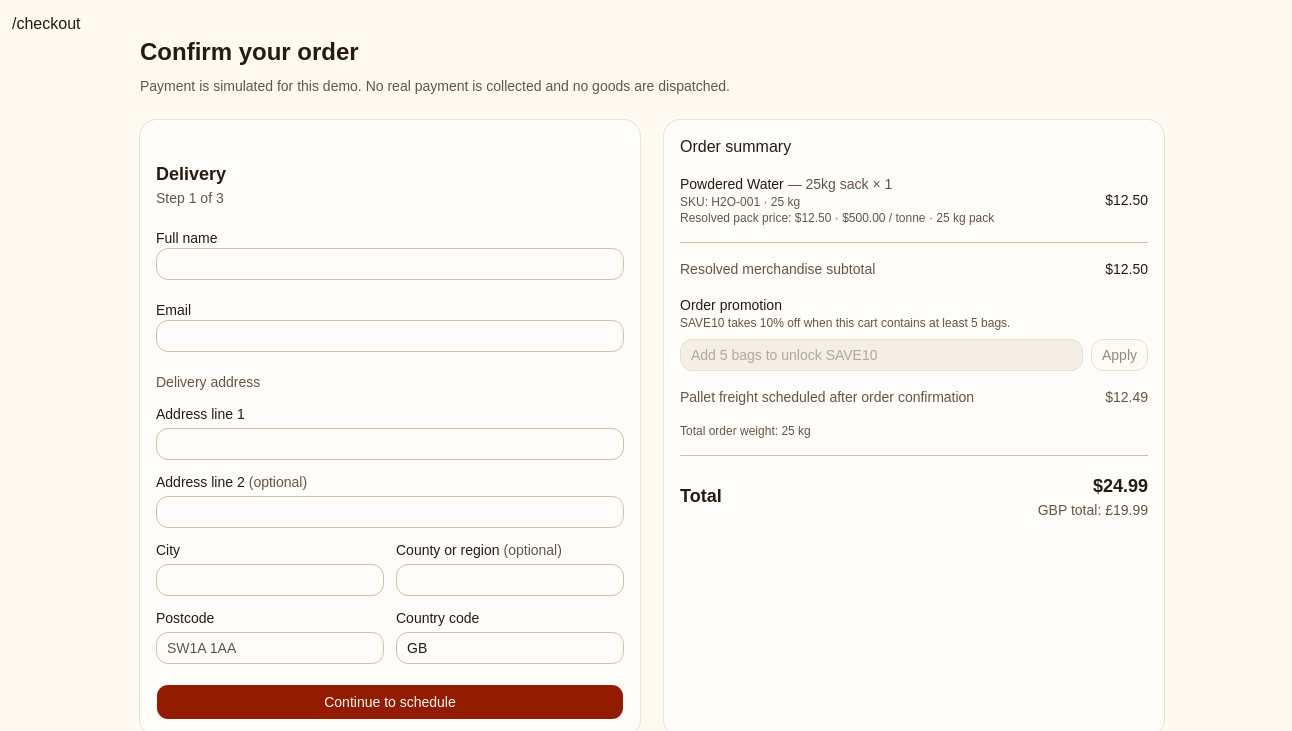
it: Checkout delivery and navigation › shows the lead-time reason and recovers from a slot load failure through retry
Type "Checkout Test" into the field labelled "Full name".
click(390, 264); type("Checkout Test")  # box 156,248 -> 624,280
Type "checkout@example.test" into the field labelled "Email".
click(390, 336); type("checkout@example.test")  # box 156,320 -> 624,352
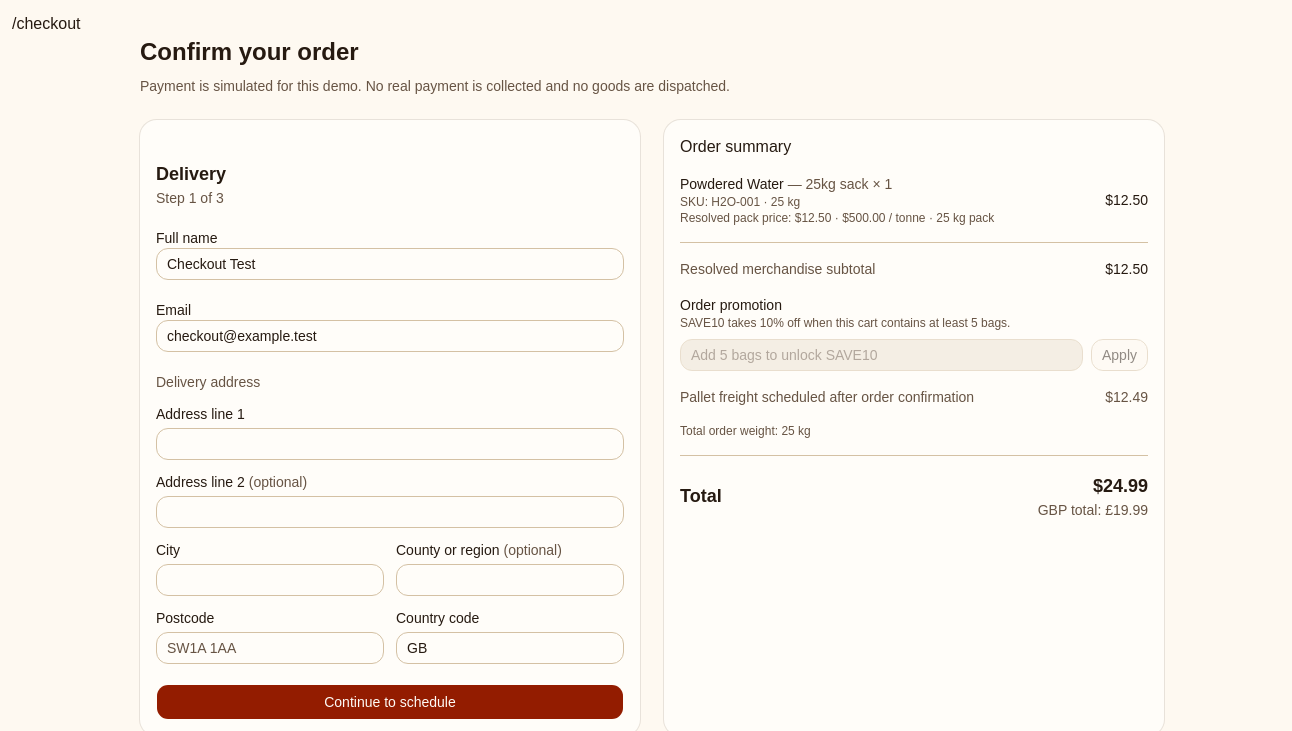
Type "1 Test Street" into the field labelled "Address line 1".
click(390, 444); type("1 Test Street")  # box 156,428 -> 624,460
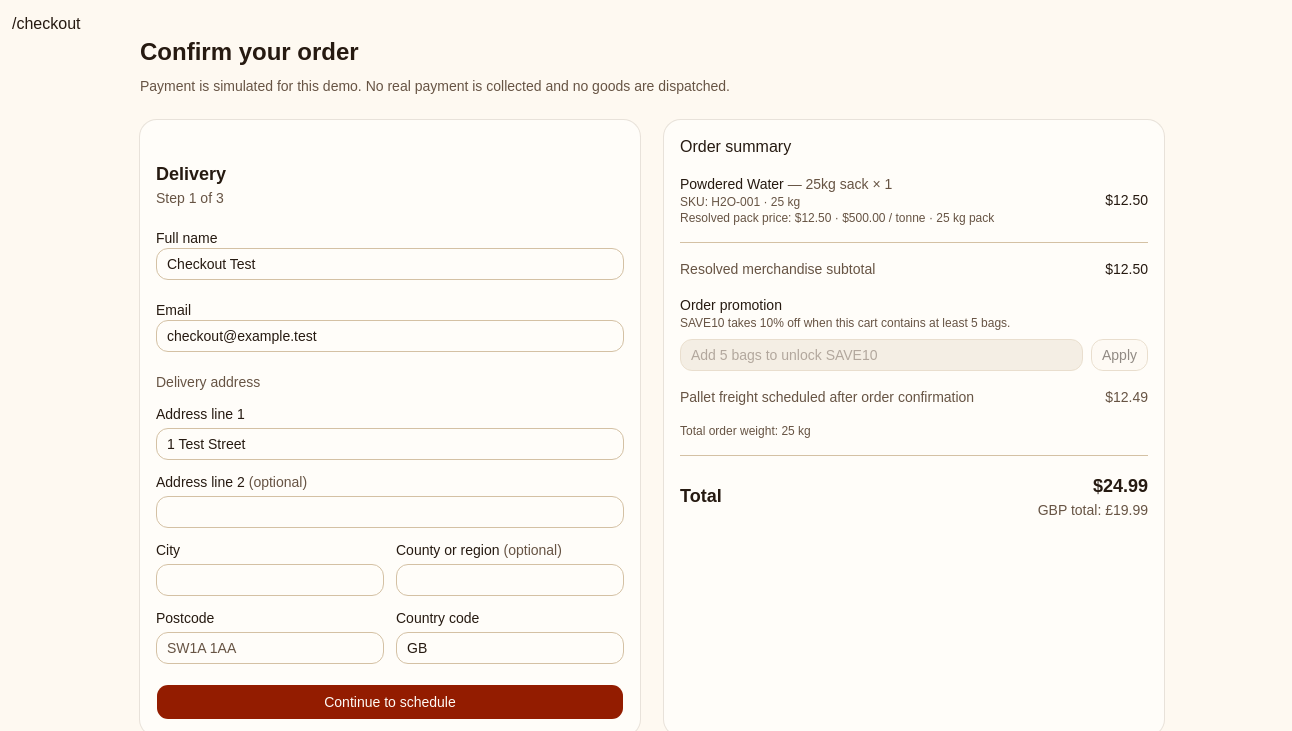
Type "Testville" into the field labelled "City".
click(270, 580); type("Testville")  # box 156,564 -> 384,596
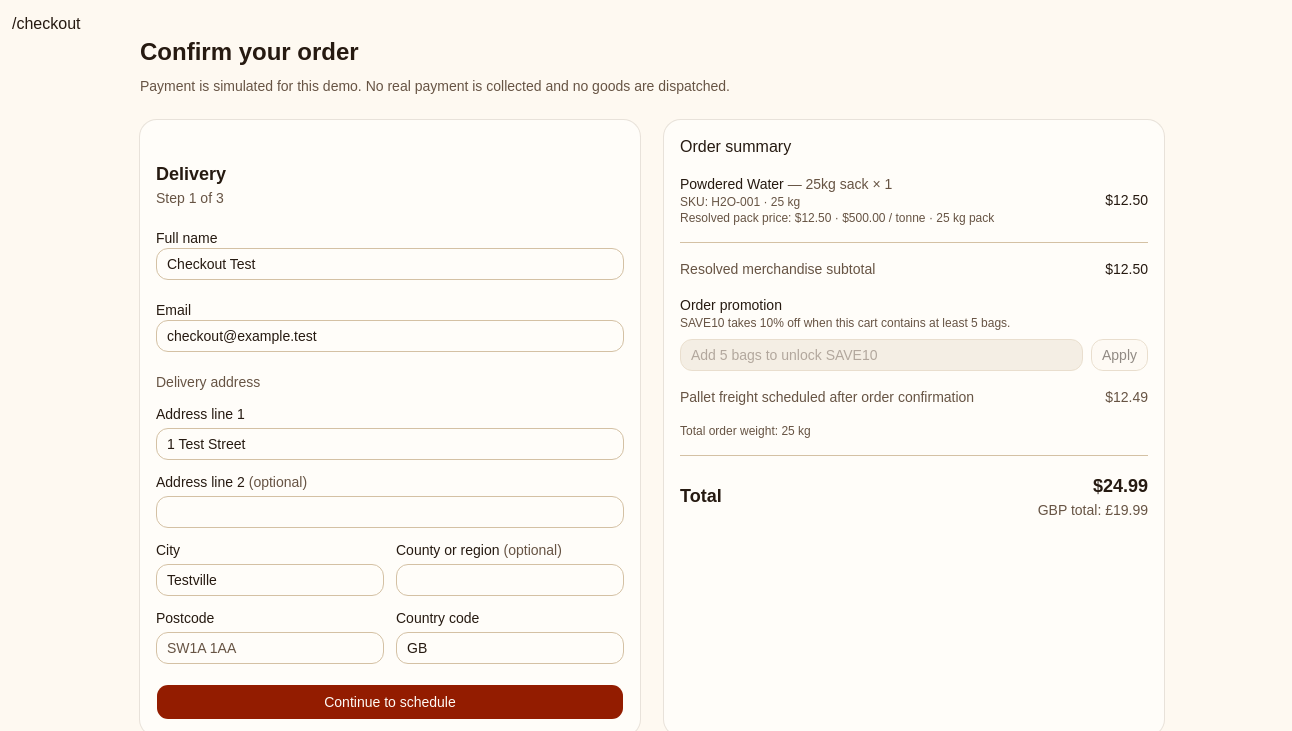
Type "TE1 1ST" into the field labelled "Postcode".
click(270, 648); type("TE1 1ST")  # box 156,632 -> 384,664
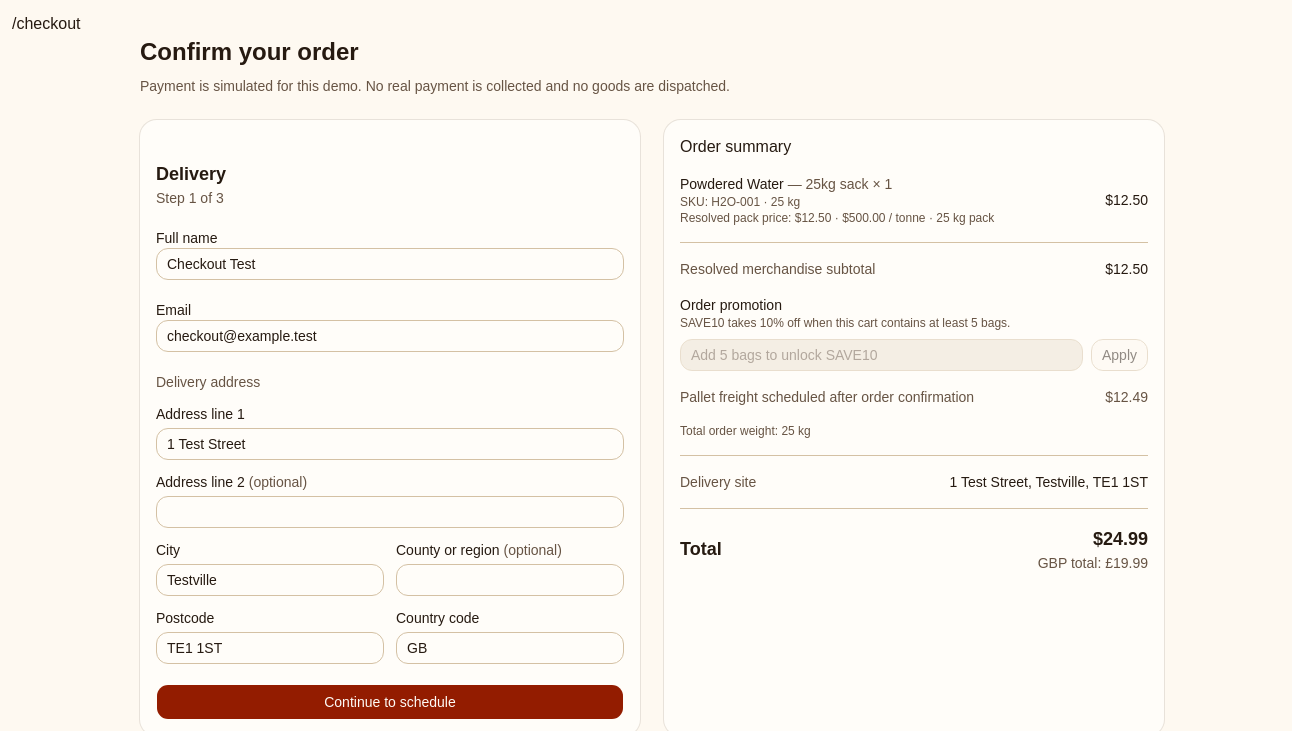
Click the button "Continue to schedule".
click(390, 702)  # box 156,684 -> 624,720
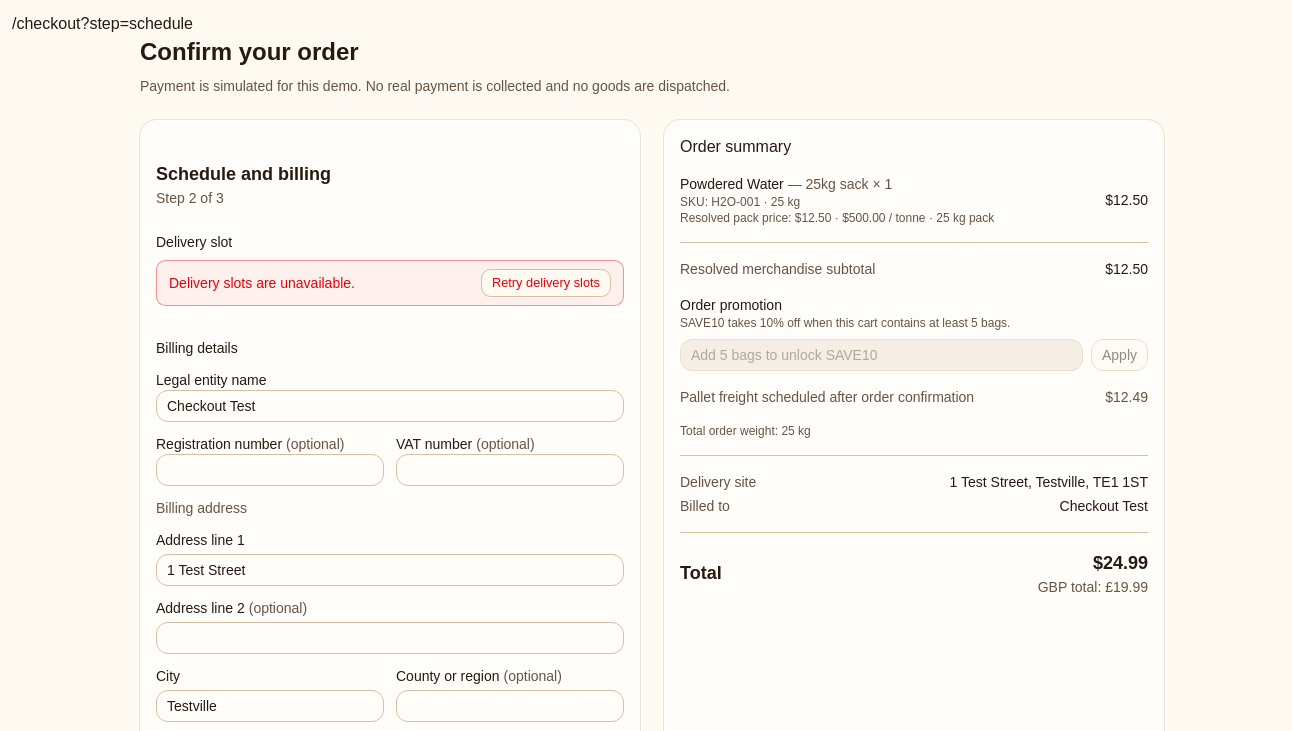
Expected: the heading "Schedule and billing" is shown, 156,164 -> 331,184
Expected: the text "Delivery slots are unavailable." is shown, 169,273 -> 355,293
Click the button "Retry delivery slots".
click(546, 283)  # box 481,269 -> 611,297
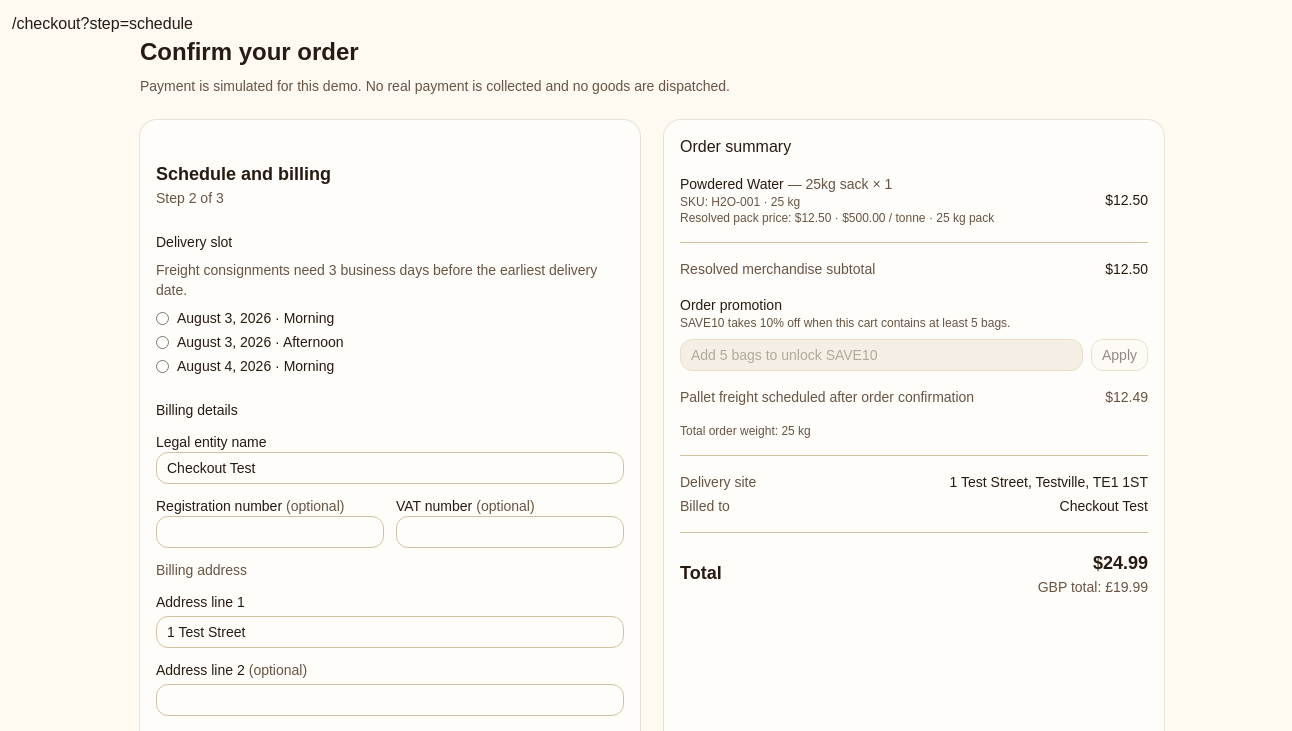
Expected: the radio button labelled "August 3, 2026 · Morning" is shown, 156,312 -> 169,324
Expected: the text with test id "lead-time-reason" shows "Freight consignments need 3 business days", 156,262 -> 597,298
